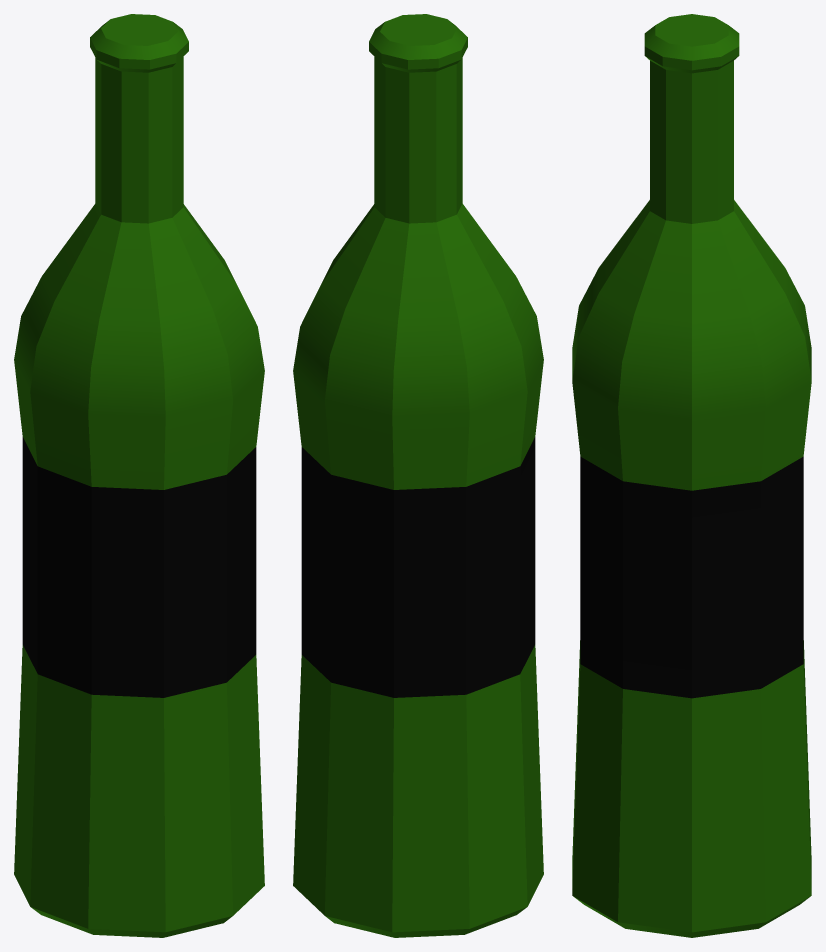
File: Bottle.fbx
The picture shows the model from 3 angles, left to right: view 1: azimuth 30°, elevation 25°; view 2: azimuth 150°, elevation 25°; view 3: azimuth 270°, elevation 25°; orthographic projection.
Parts seen in each view (by area): view 1: pCylinder1; view 2: pCylinder1; view 3: pCylinder1.
Part boxes in pixels (<box>): pCylinder1: <box>14,14,264,937</box>; pCylinder1: <box>293,14,543,937</box>; pCylinder1: <box>572,14,811,937</box>.
Size of the model in its own units: 2 by 7.53 by 1.9.
